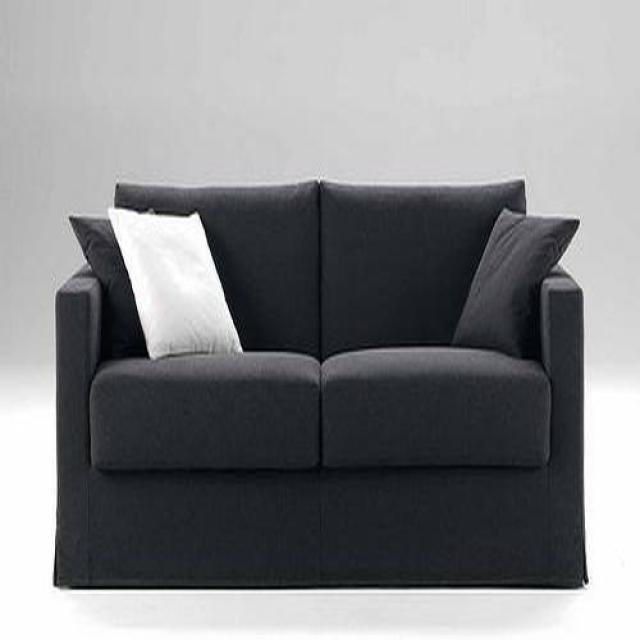sofa: (54, 180, 588, 595)
